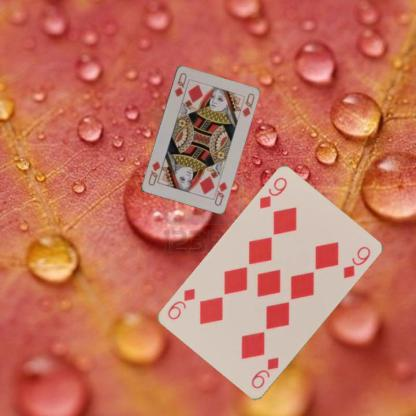9d: (256, 174, 288, 211), (249, 354, 280, 390)
Qd: (210, 176, 228, 207), (172, 70, 188, 98)
